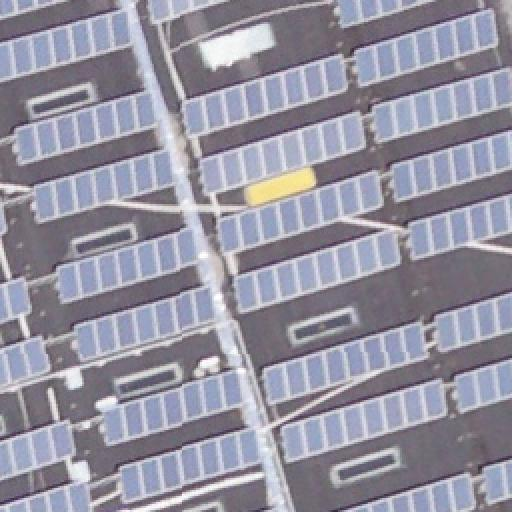solar-panel: (281, 375, 455, 465), (214, 168, 386, 256), (180, 52, 352, 140), (263, 317, 433, 403), (199, 113, 369, 199), (231, 231, 401, 313), (99, 367, 253, 449), (73, 285, 223, 363), (353, 9, 503, 87), (15, 89, 161, 167), (54, 226, 202, 302), (29, 151, 179, 225), (116, 426, 264, 498), (372, 68, 512, 144), (0, 9, 136, 87), (388, 129, 512, 199), (408, 195, 512, 261), (334, 472, 478, 512), (0, 417, 80, 479), (433, 289, 511, 351), (449, 354, 511, 410), (0, 480, 96, 512), (334, 1, 434, 31), (0, 335, 52, 385), (152, 0, 232, 24), (1, 275, 39, 325), (480, 457, 512, 503), (1, 0, 71, 20), (0, 209, 8, 239), (263, 505, 281, 511)
